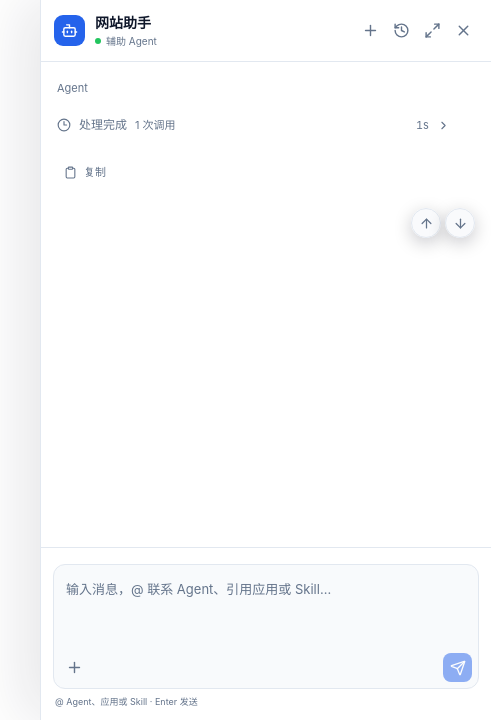
Test case: Agent execution timeline › keeps ordered parent and child activity compact and hides tool payloads
Click the button with aria-label "执行过程". click: (103, 124)
box: [57,103,450,147]
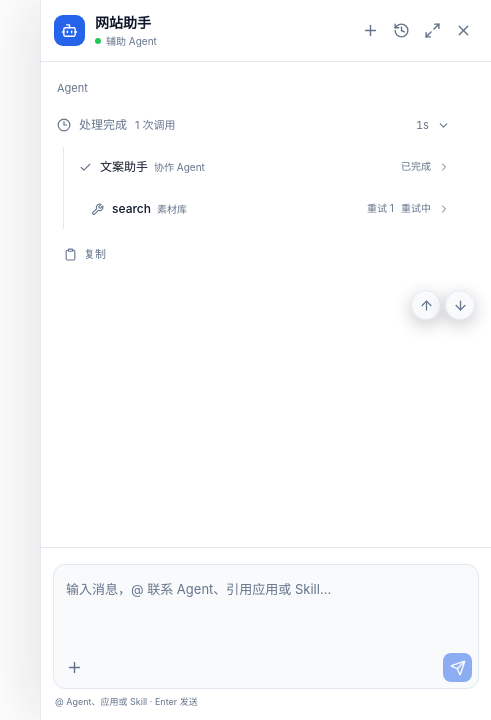
Expected: the text "文案助手" is shown, [100,158,148,176]
Expected: the text "重试 1" is shown, [367,201,394,217]
Expected: the text "已完成" is shown, [401,159,431,175]
